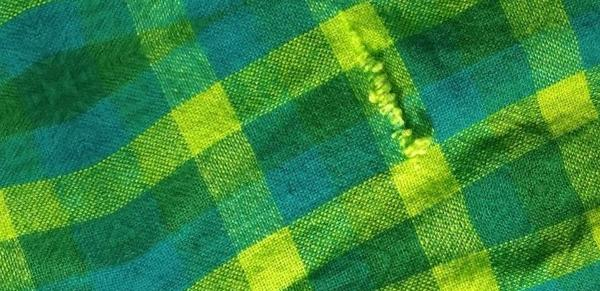knot: (340, 16, 439, 164)
